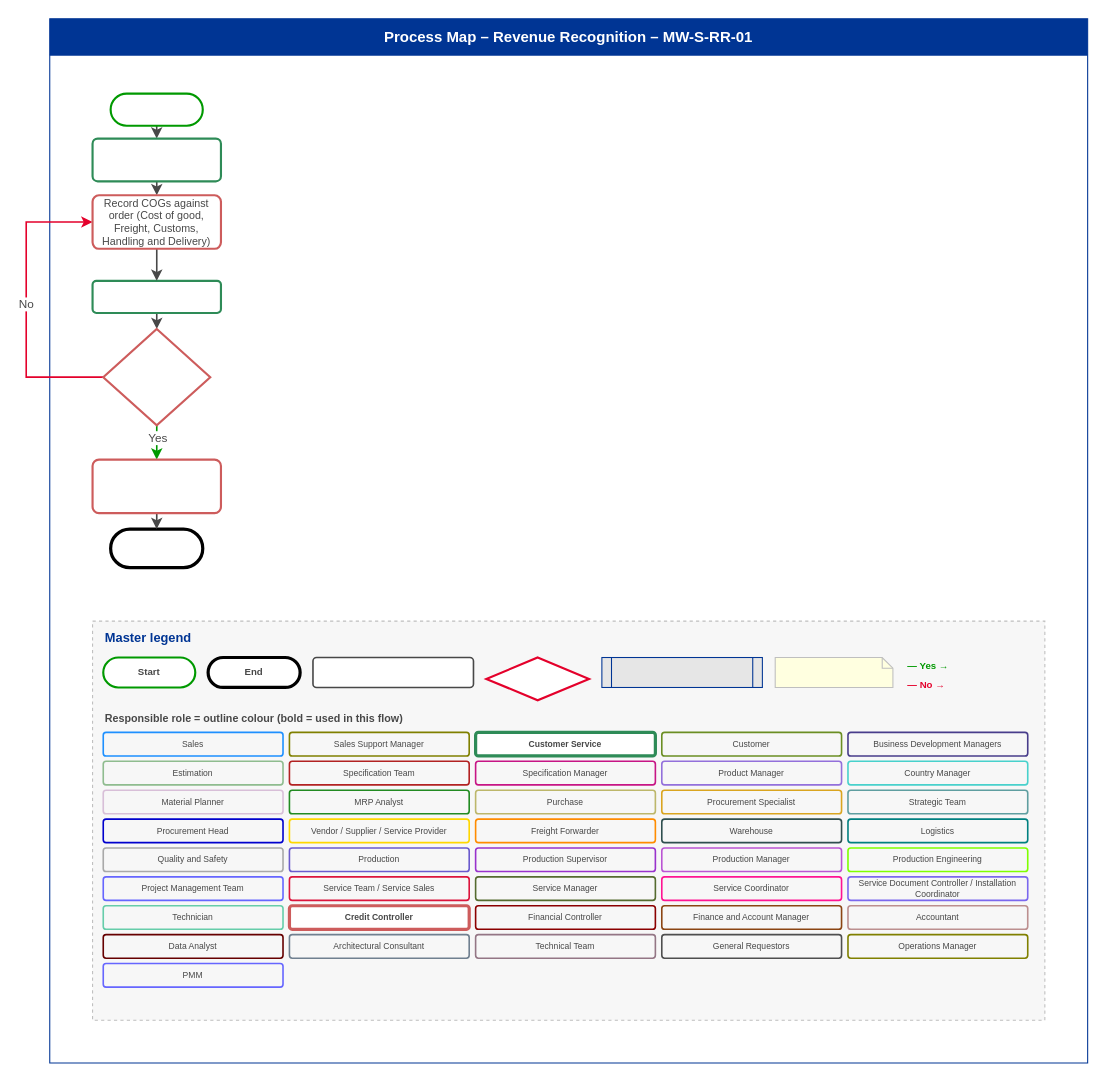
The diagram is 1107 pixels wide and 1082 high, and some of its shapes have lost their labels. The box of each missing label's shape, as (x1, y1, x2, y2) in pixels:
Activity (outline = role): (312, 656, 474, 688)
Decision: (485, 656, 590, 701)
Linked process (Ref ID): (601, 656, 762, 687)
Material Delivery Complete?: (102, 327, 211, 426)
Material Delivery Confirmation: (108, 527, 204, 569)
Note / checklist: (774, 656, 893, 687)
Notify Credit Controller to register revenue of partial material: (91, 137, 221, 182)
Process further delivery,: (91, 279, 221, 314)
Remove all partial entries, and record complete COGs Against Invoice: (91, 458, 221, 514)
Revenue Recognition: (109, 92, 203, 126)
